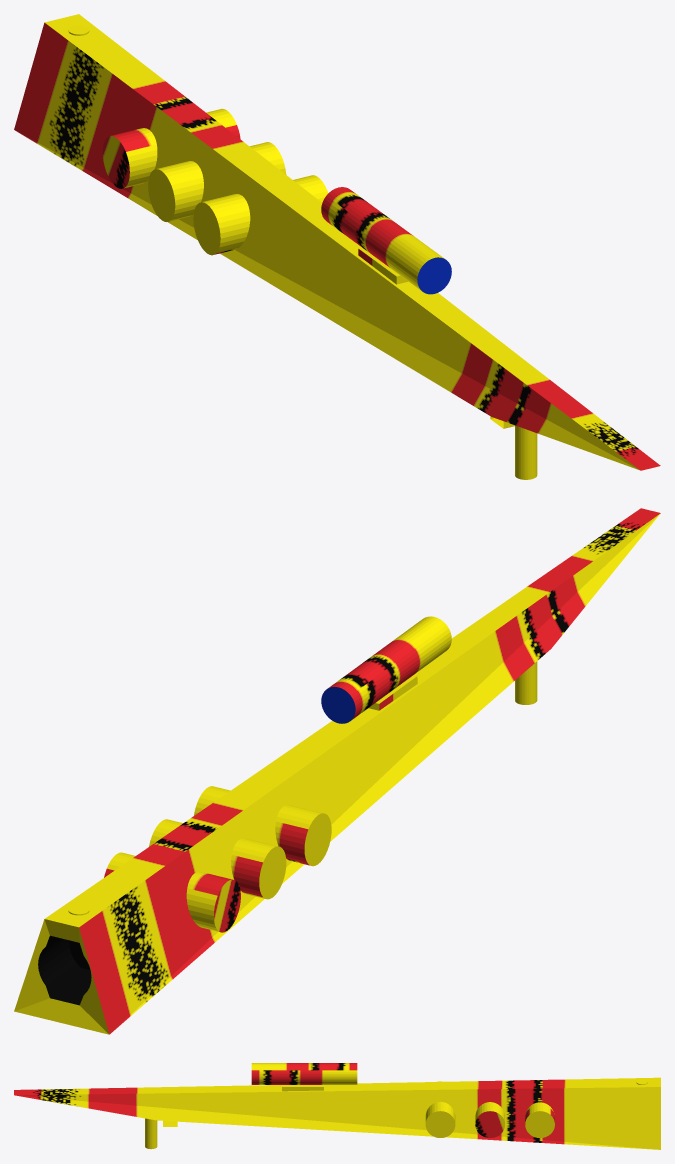
The model's file is pistol.obj.
3 views of the same model, one above another, from view 1: azimuth 30°, elevation 25°; view 2: azimuth 150°, elevation 25°; view 3: azimuth 270°, elevation 25° (orthographic). The views are drawn at different scales.
Parts seen in each view (by area): view 1: Cube.001; view 2: Cube.001; view 3: Cube.001.
Part boxes in pixels (x1,y1,x2,y2): Cube.001: (14, 14, 660, 479); Cube.001: (14, 508, 660, 1034); Cube.001: (14, 1063, 660, 1149).
Size of the model in its own units: 0.8297 by 1.07 by 7.62.
